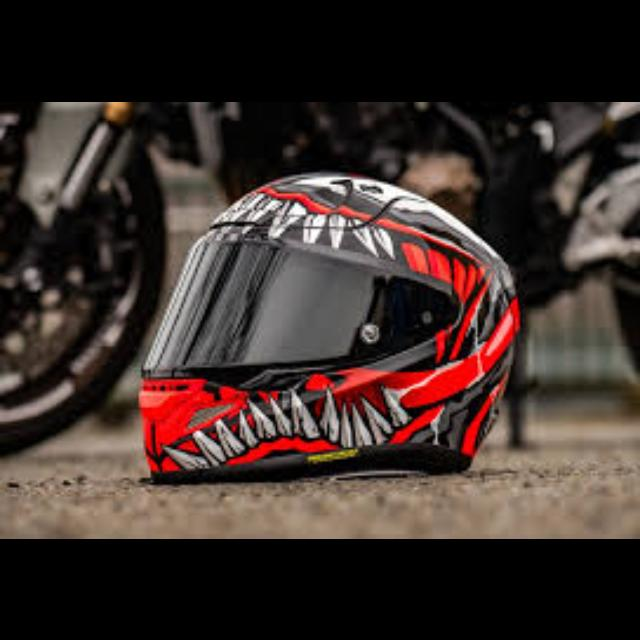motorcycle-helmets: (141, 172, 518, 477)
